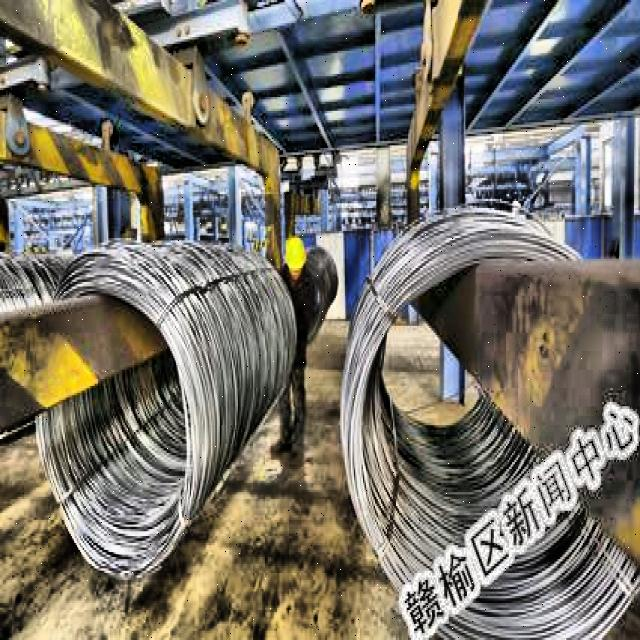helmet: (280, 231, 308, 284)
